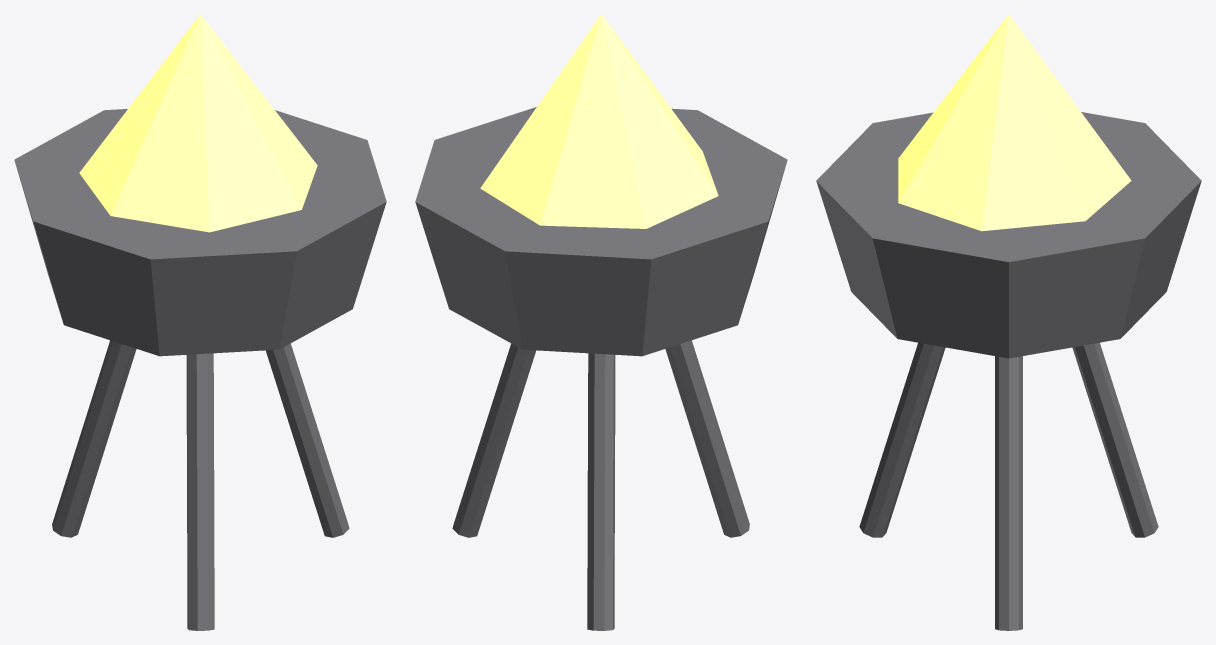
The model's file is brazier.glb.
The picture shows the model from 3 angles, left to right: view 1: azimuth 30°, elevation 25°; view 2: azimuth 150°, elevation 25°; view 3: azimuth 270°, elevation 25°; orthographic projection.
Parts seen in each view (by area): view 1: brazier; view 2: brazier; view 3: brazier.
Part boxes in pixels (x1,y1,x2,y2): brazier: (14, 14, 386, 630); brazier: (415, 14, 787, 630); brazier: (816, 14, 1201, 630).
Size of the model in its own units: 1.1 by 1.74 by 1.1.
